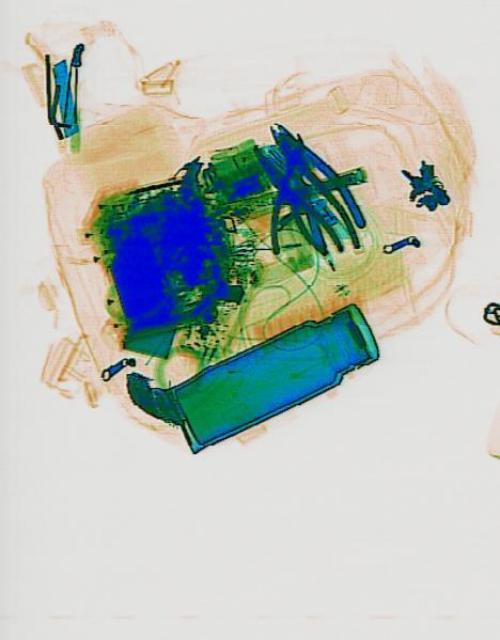Pliers: (247, 104, 367, 260), (254, 120, 356, 264)
